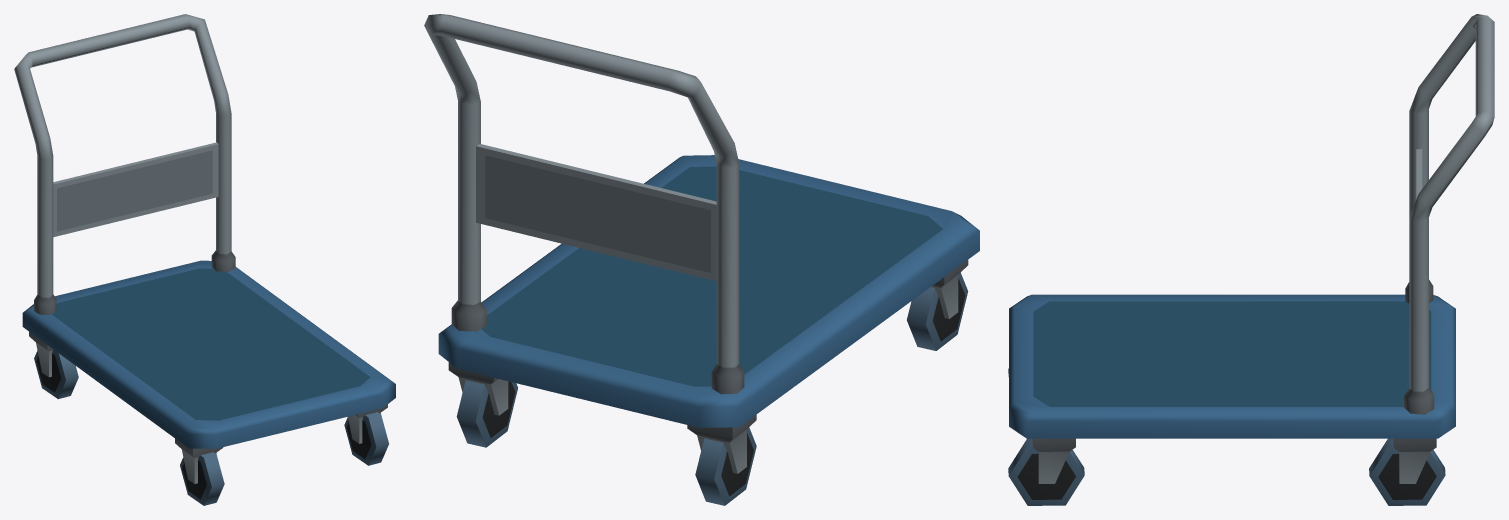
Rendered from SM_Prop_Cart_02.obj.
3 views of the same model, side by side, from view 1: azimuth 30°, elevation 25°; view 2: azimuth 150°, elevation 25°; view 3: azimuth 270°, elevation 25° (orthographic). The views are drawn at different scales.
Visible parts, largest first — view 1: SM_Prop_Cart_02_Mat_SwatchOverlay_PolygonOffice_01_Inst; view 2: SM_Prop_Cart_02_Mat_SwatchOverlay_PolygonOffice_01_Inst; view 3: SM_Prop_Cart_02_Mat_SwatchOverlay_PolygonOffice_01_Inst.
Part boxes in pixels (x1,y1,x2,y2): SM_Prop_Cart_02_Mat_SwatchOverlay_PolygonOffice_01_Inst: (14, 14, 395, 505); SM_Prop_Cart_02_Mat_SwatchOverlay_PolygonOffice_01_Inst: (424, 14, 979, 505); SM_Prop_Cart_02_Mat_SwatchOverlay_PolygonOffice_01_Inst: (1008, 14, 1494, 505).
Bounding box in the file's own units: 0.6422 × 0.9332 × 1.06.
1 material, 1 textured.
